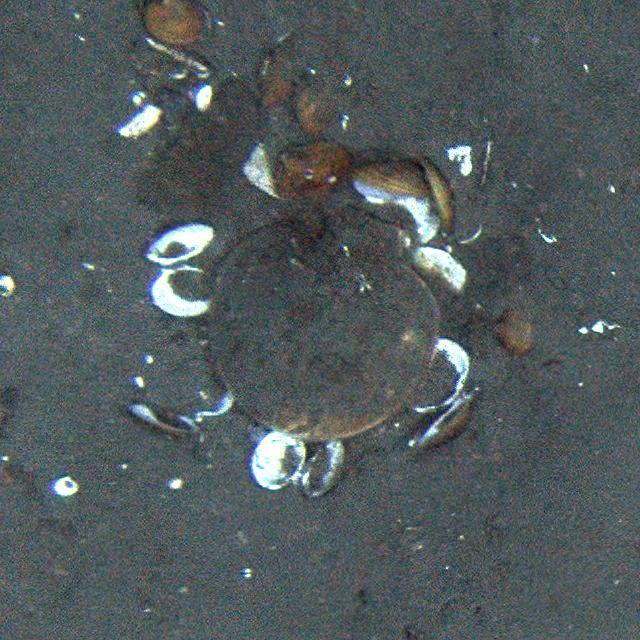scallop: (200, 210, 430, 442)
